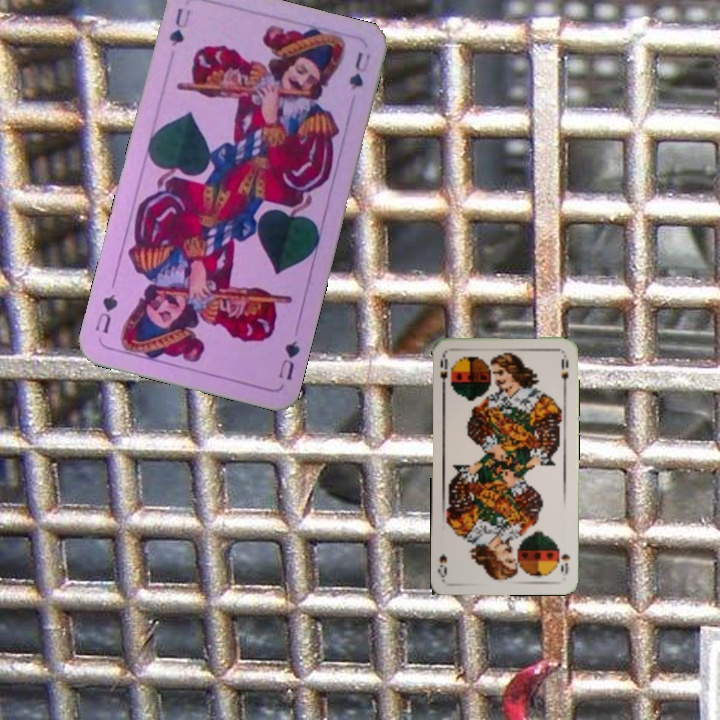GU: (274, 336, 303, 383), (165, 4, 193, 50)
SO: (436, 349, 450, 390), (557, 550, 572, 577)
